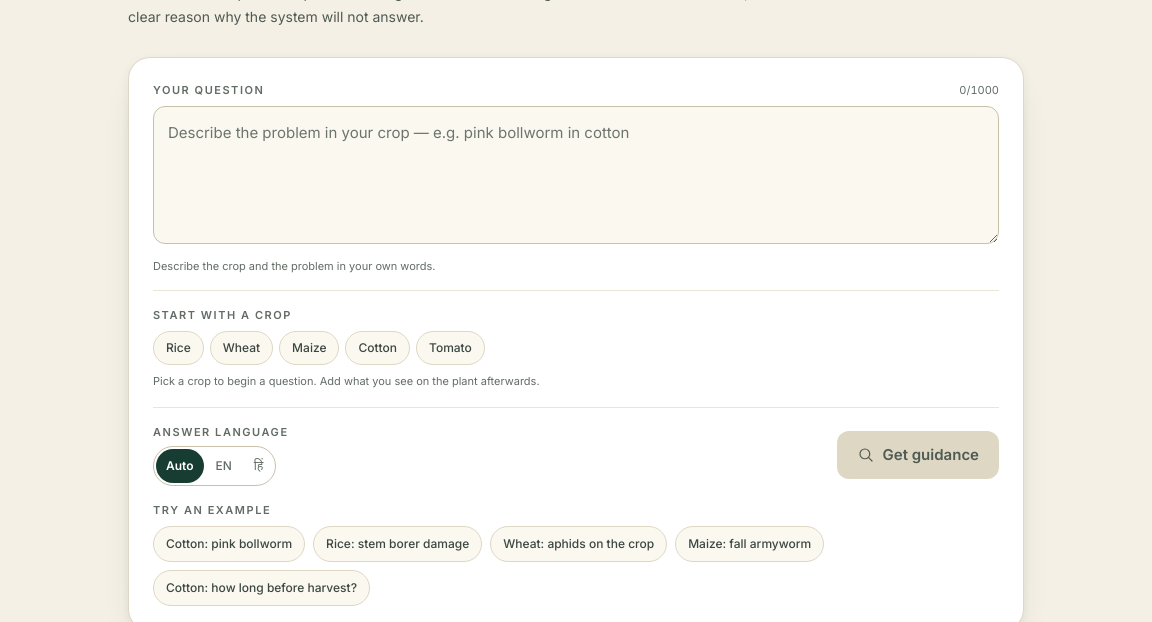
Test: AdvisoryAssistant › treats a 503 as unavailable rather than as a safety decision
Type "How do I control pink bollworm in cotton?" into the text box labelled "Your question". click: (576, 175)
box: [153, 106, 999, 244]
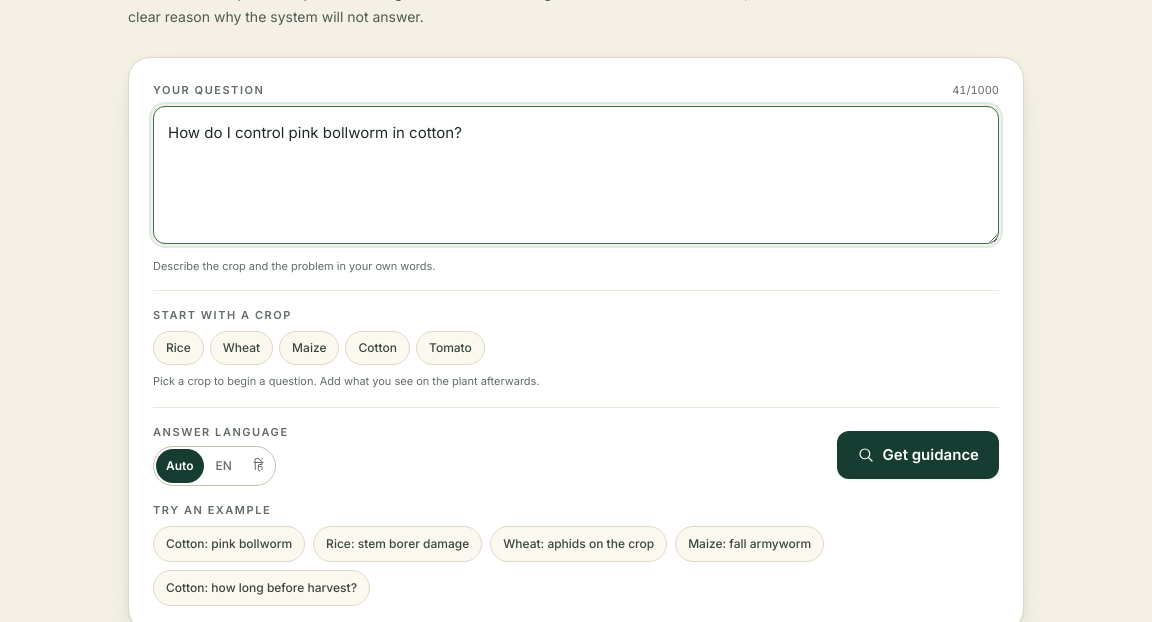
Click the button "Get guidance". click: (918, 455)
box: [837, 431, 999, 479]
(page scrolled)
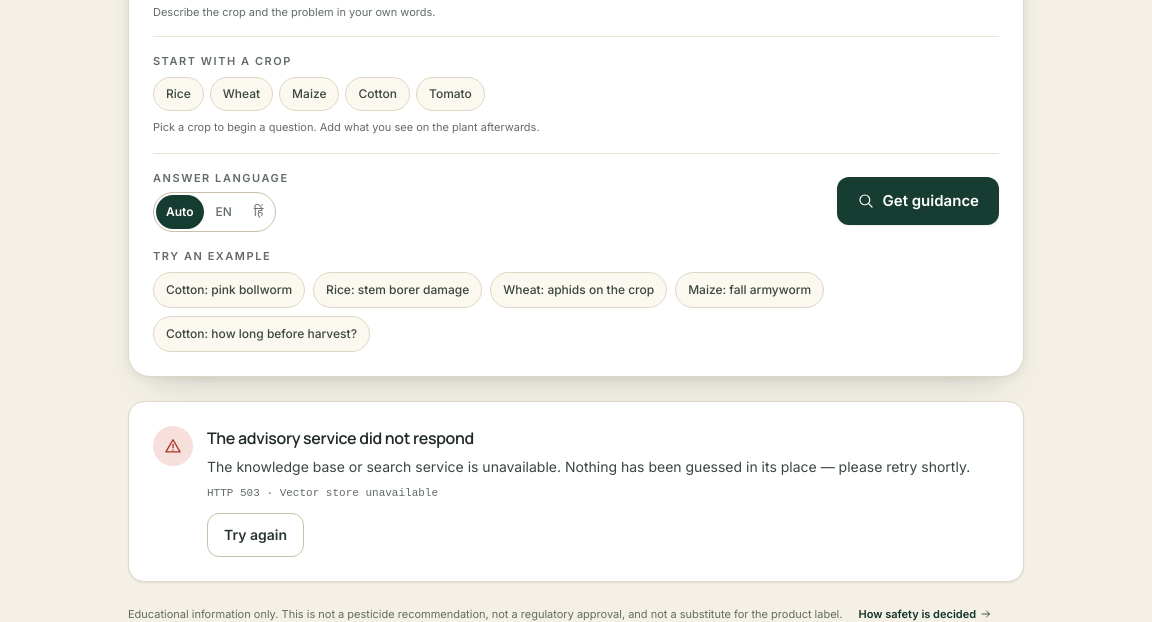
Expected: the heading "The advisory service did not respond" is shown, [207, 427, 474, 449]
Expected: the text "unavailable" is shown, [207, 458, 970, 475]
